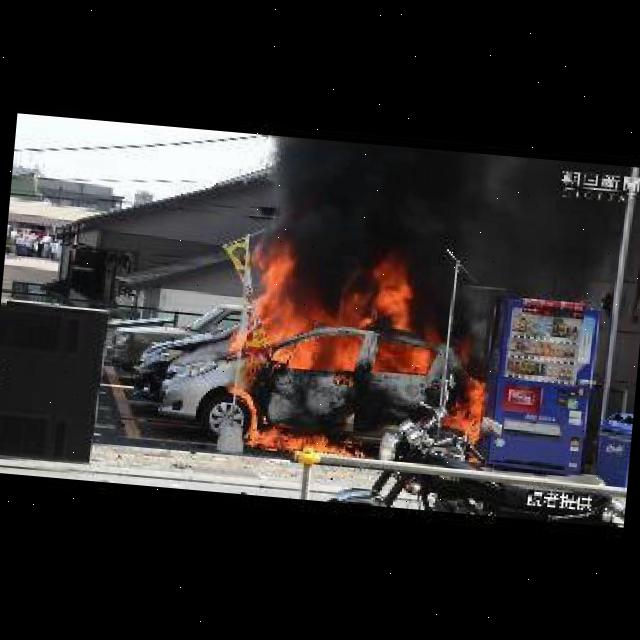fire: (244, 134, 638, 328), (214, 246, 505, 479)
